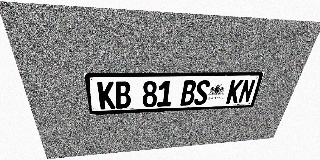1: (157, 81, 173, 107)
8: (142, 81, 158, 107)
B: (114, 81, 131, 109), (180, 80, 197, 106)
K: (97, 81, 115, 109), (226, 79, 244, 104)
N: (237, 79, 256, 103)
S: (193, 80, 211, 105)
